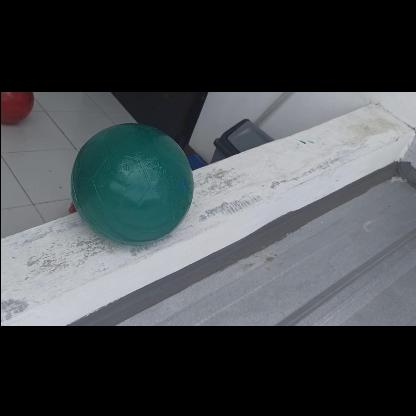green_ball: (71, 122, 194, 244)
